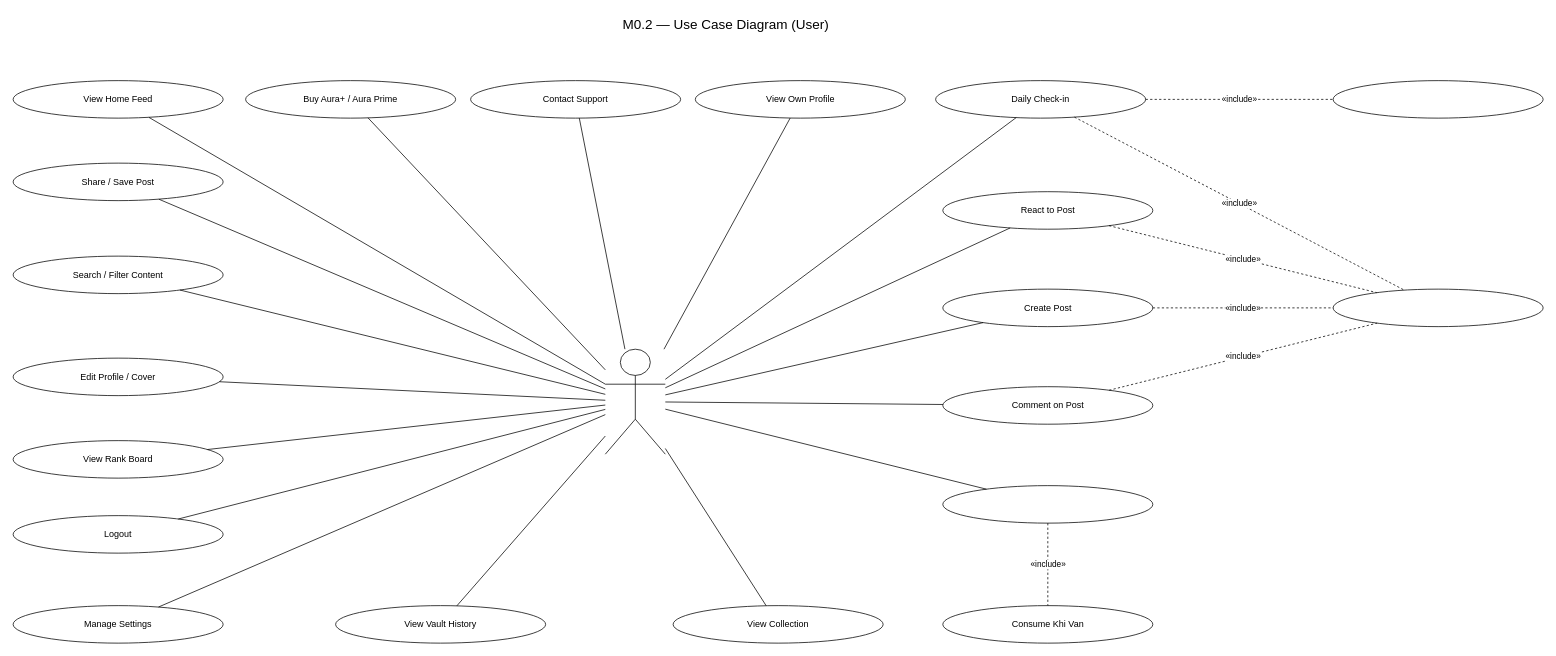
The diagram is 1556 pixels wide and 656 high, and some of its shapes have lost their labels. Each missing label, with the box of its shape:
Open Vault: (942, 485, 1153, 523)
Receive Aura XP: (1332, 288, 1543, 327)
Receive Streak Reward: (1332, 80, 1543, 118)
User: (605, 348, 665, 454)
